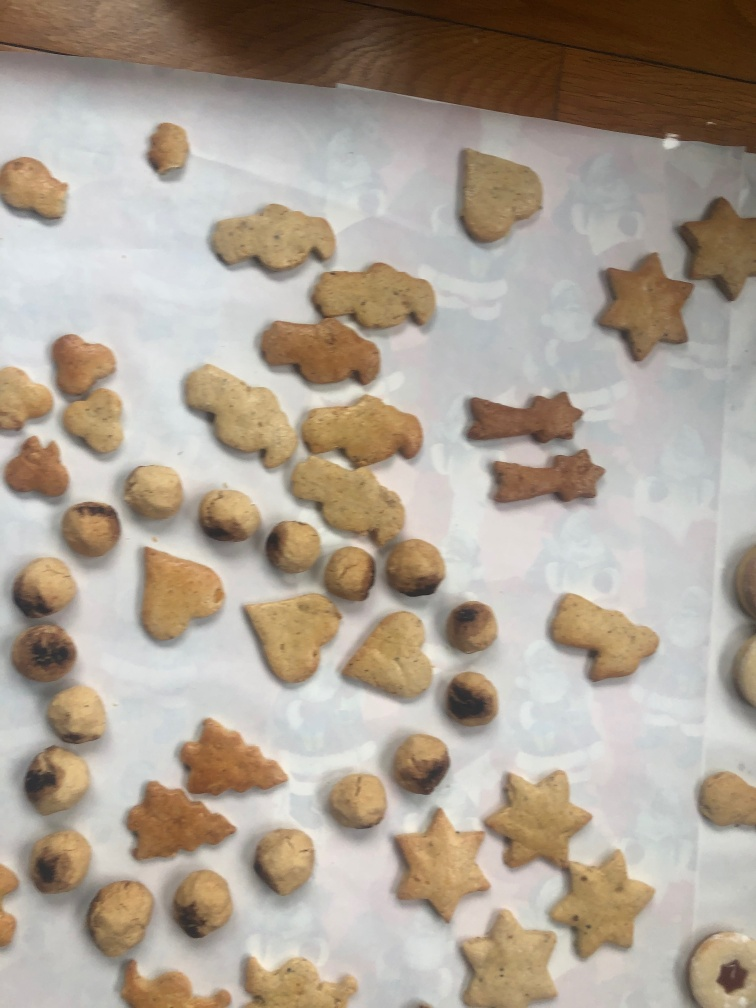angel: (545, 585, 666, 685)
christmas shortbread with jam: (678, 922, 756, 1007)
christmas tree: (170, 712, 292, 801), (120, 775, 241, 860)
flake: (3, 425, 78, 505), (45, 328, 122, 400), (61, 384, 127, 463), (2, 356, 53, 439)
heart: (241, 588, 349, 688), (453, 143, 547, 251), (338, 606, 433, 712), (134, 541, 224, 647)
santa claus: (177, 355, 299, 472), (286, 452, 405, 546), (310, 258, 445, 336), (300, 392, 431, 471), (254, 316, 384, 395), (206, 200, 336, 275), (109, 949, 234, 1008), (235, 950, 360, 1008)
shooting star: (483, 449, 610, 513), (459, 389, 584, 451)
snowball: (83, 873, 158, 957), (13, 743, 97, 817), (8, 616, 81, 688), (249, 823, 320, 897), (169, 864, 232, 942), (194, 482, 265, 551), (383, 727, 454, 796), (9, 551, 83, 617), (24, 827, 95, 895), (322, 768, 393, 834), (380, 532, 447, 600), (437, 669, 504, 736), (43, 681, 111, 745), (262, 515, 325, 582), (125, 460, 188, 526), (442, 594, 502, 658), (142, 118, 195, 190), (57, 499, 120, 558), (322, 544, 378, 606)
star: (477, 763, 594, 874), (387, 804, 493, 925), (548, 843, 657, 955), (595, 250, 698, 367), (456, 907, 565, 1008), (670, 191, 756, 307)
